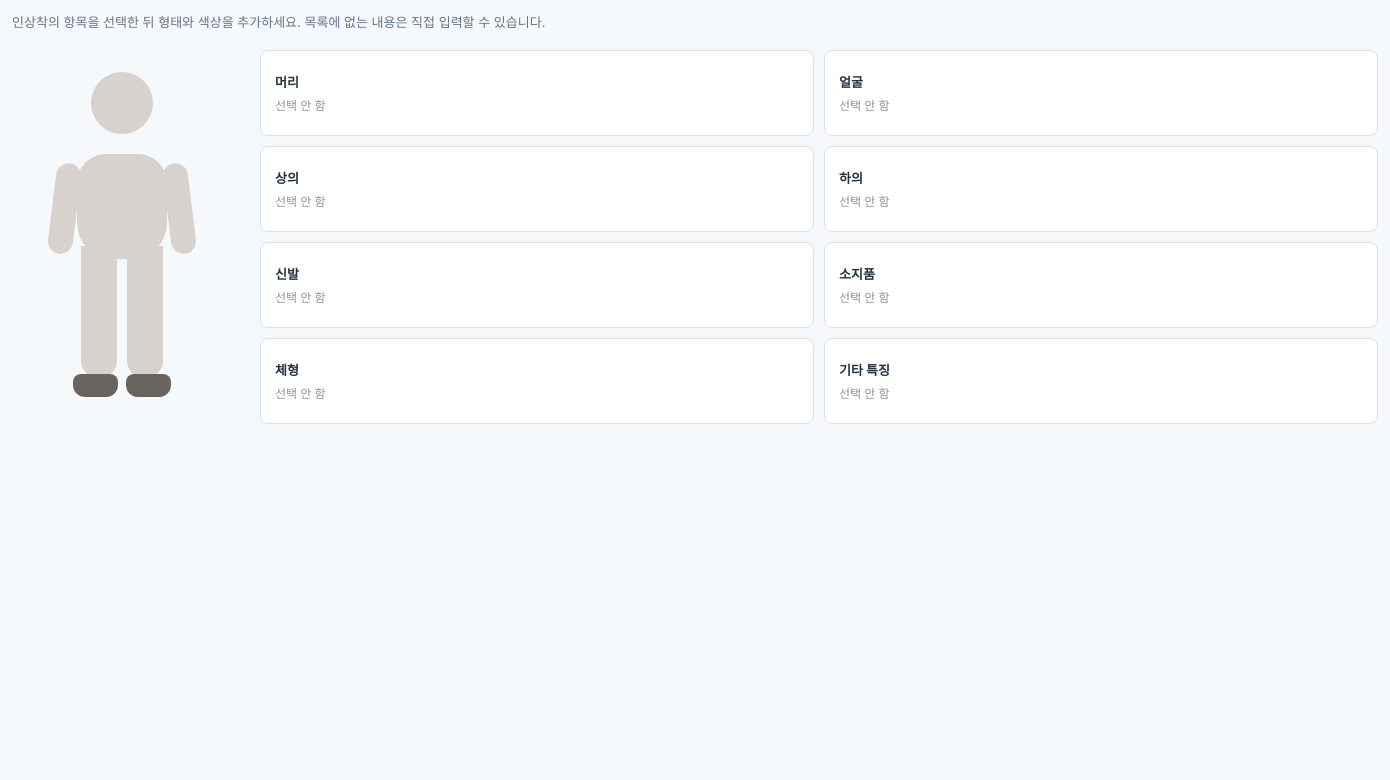
Test: AppearancePicker › 한 번에 하나의 인상착의 항목만 연다
Expected: the element with test id "appearance-picker" is shown, left=12, top=12, right=1378, bottom=424
Step 1. Click the button "머리 선택 안 함" → x=300, y=105, box left=260, top=50, right=814, bottom=136
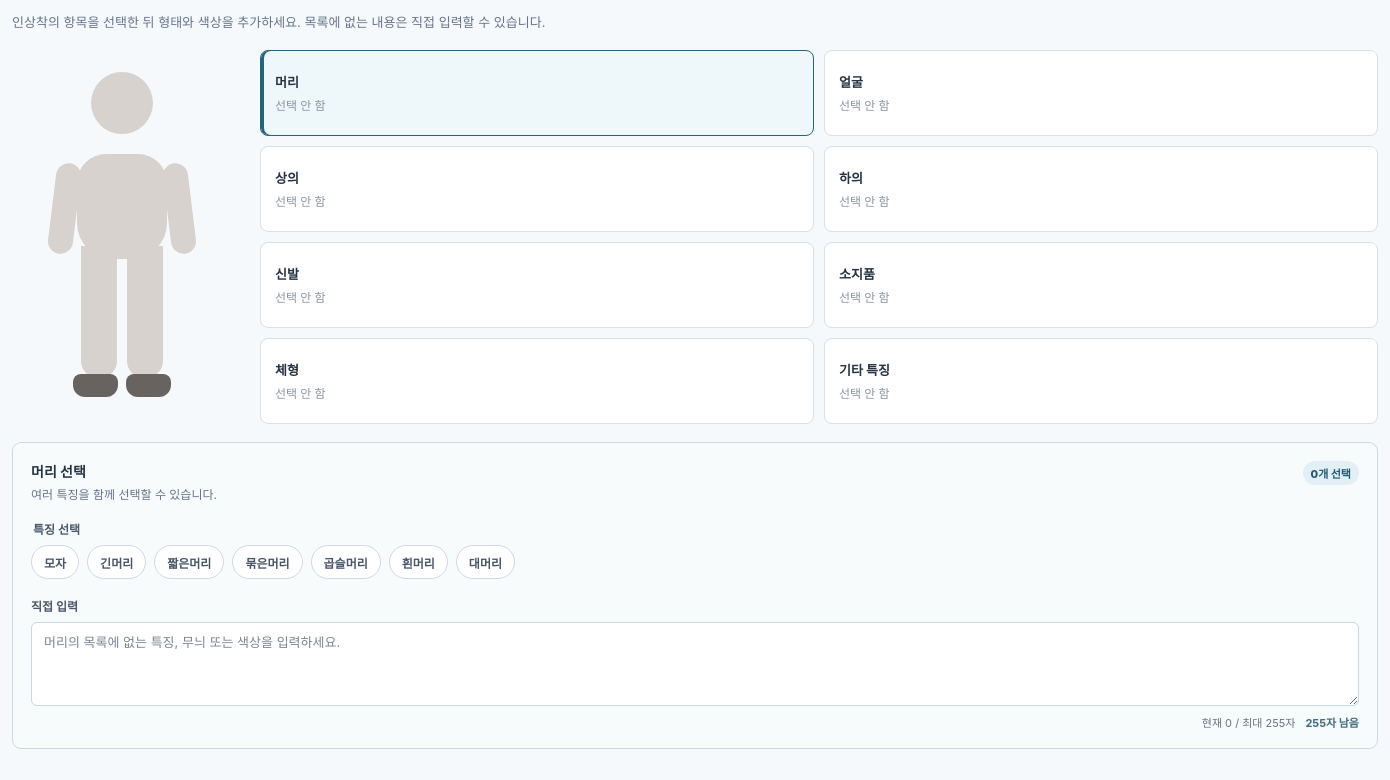
Step 2. Click the button "상의 선택 안 함" → x=300, y=201, box left=260, top=146, right=814, bottom=232
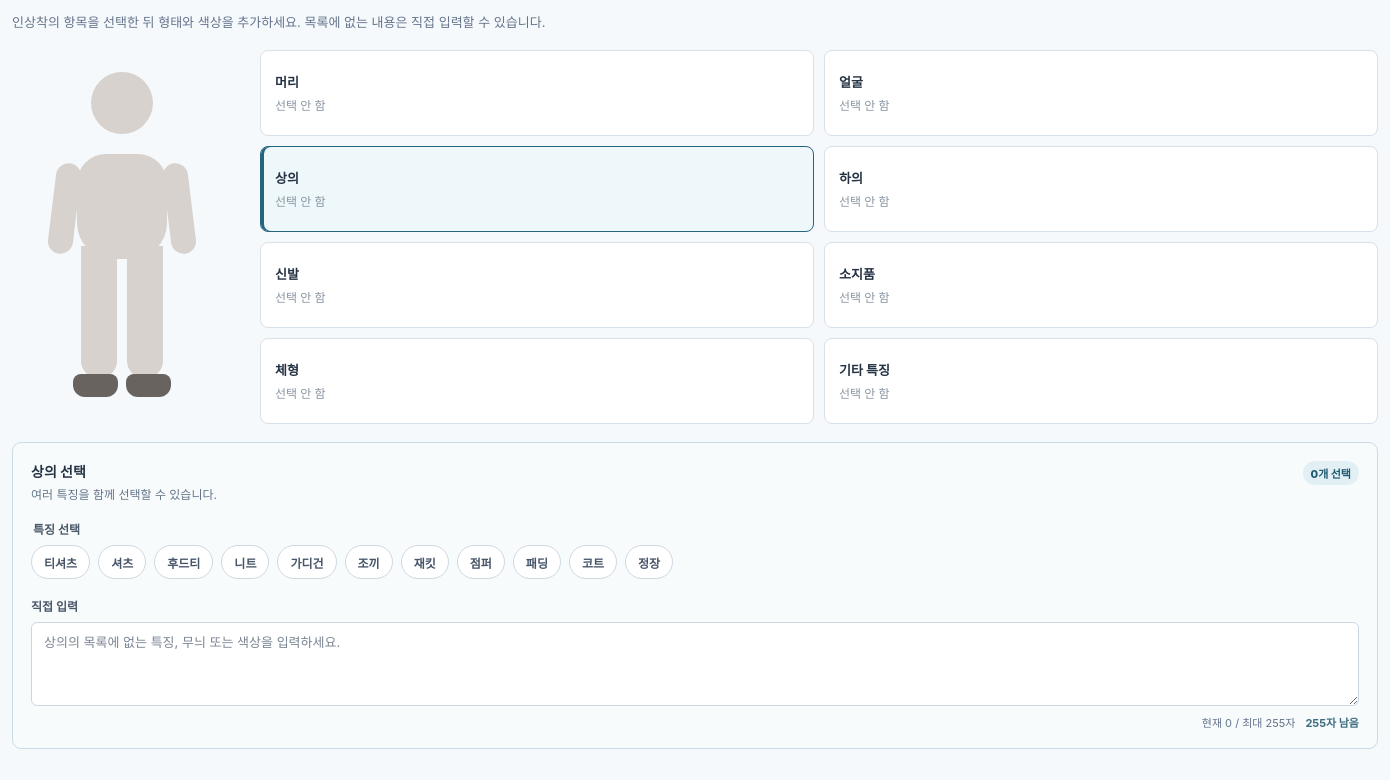
Now the button "머리 선택 안 함" is collapsed, box left=260, top=50, right=814, bottom=136
